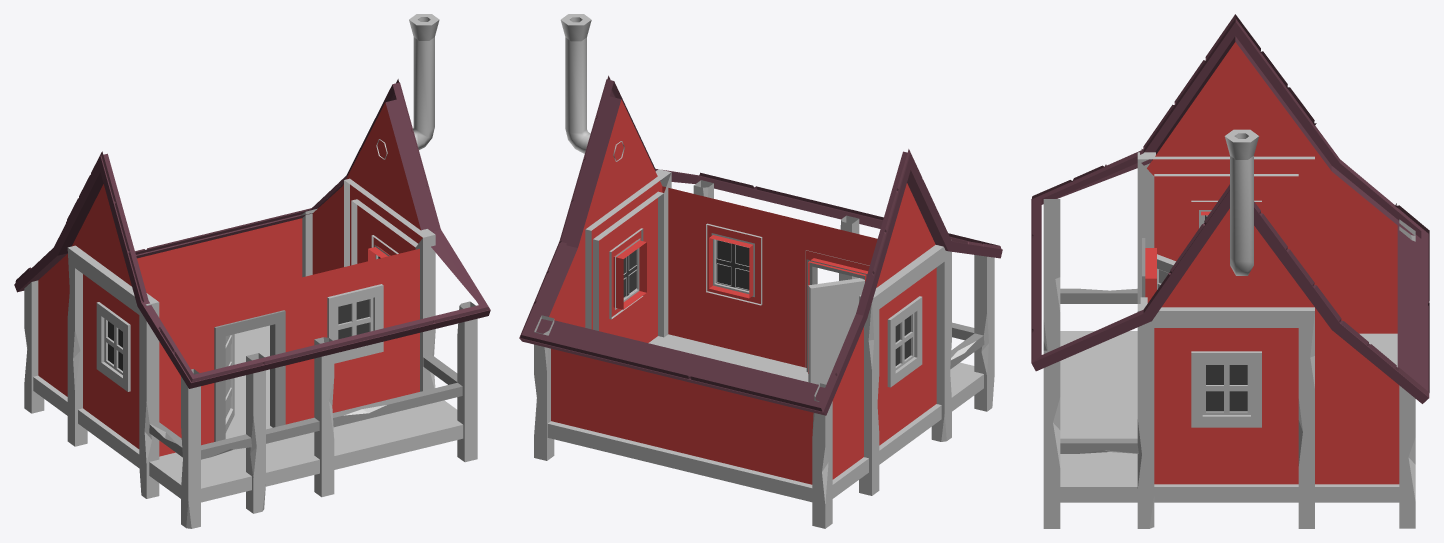
Rendered from House_Stage_03.fbx.
3 views of the same model, side by side, from view 1: azimuth 30°, elevation 25°; view 2: azimuth 150°, elevation 25°; view 3: azimuth 270°, elevation 25° (orthographic). The views are drawn at different scales.
Visible parts, largest first — view 1: House_5; view 2: House_5; view 3: House_5.
Part boxes in pixels (x1,y1,x2,y2): House_5: (14,14,490,528); House_5: (519,14,1002,528); House_5: (1031,14,1429,528).
Bounding box in the file's own units: 178 × 185 × 162.
